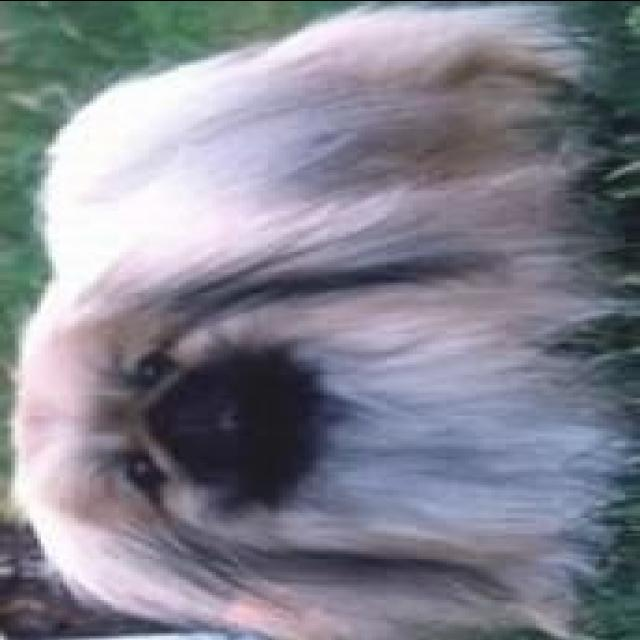pekinese: (11, 2, 629, 638)
